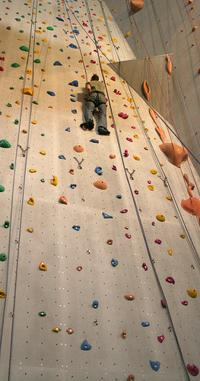person: (81, 73, 111, 137)
